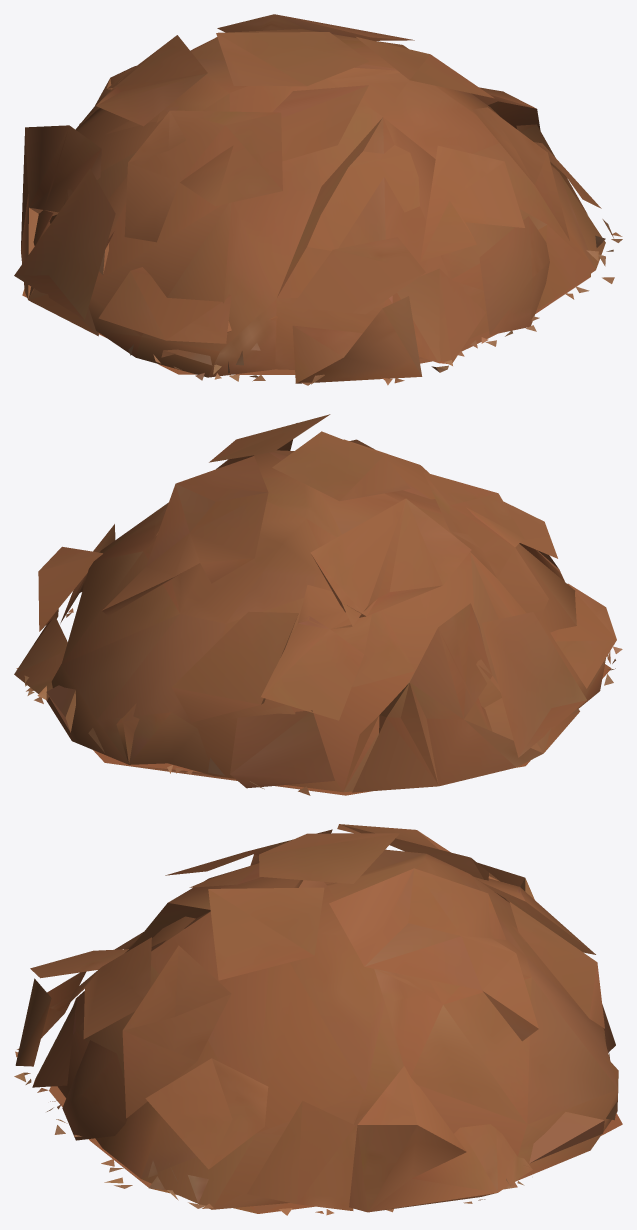
File: resource_clay_2.glb
3 views of the same model, one above another, from view 1: azimuth 30°, elevation 25°; view 2: azimuth 150°, elevation 25°; view 3: azimuth 270°, elevation 25° (orthographic). The views are drawn at different scales.
Parts seen in each view (by area): view 1: MeshyGear_resource_clay; view 2: MeshyGear_resource_clay; view 3: MeshyGear_resource_clay.
Boxes of the visible parts, bbox=[...] form: MeshyGear_resource_clay: bbox=[14, 14, 622, 385]; MeshyGear_resource_clay: bbox=[14, 414, 622, 795]; MeshyGear_resource_clay: bbox=[14, 824, 622, 1215].
Size of what is drawn, in the model's own units: 2.42 by 1.01 by 2.41.
Materials: 1 (1 with a texture image).
